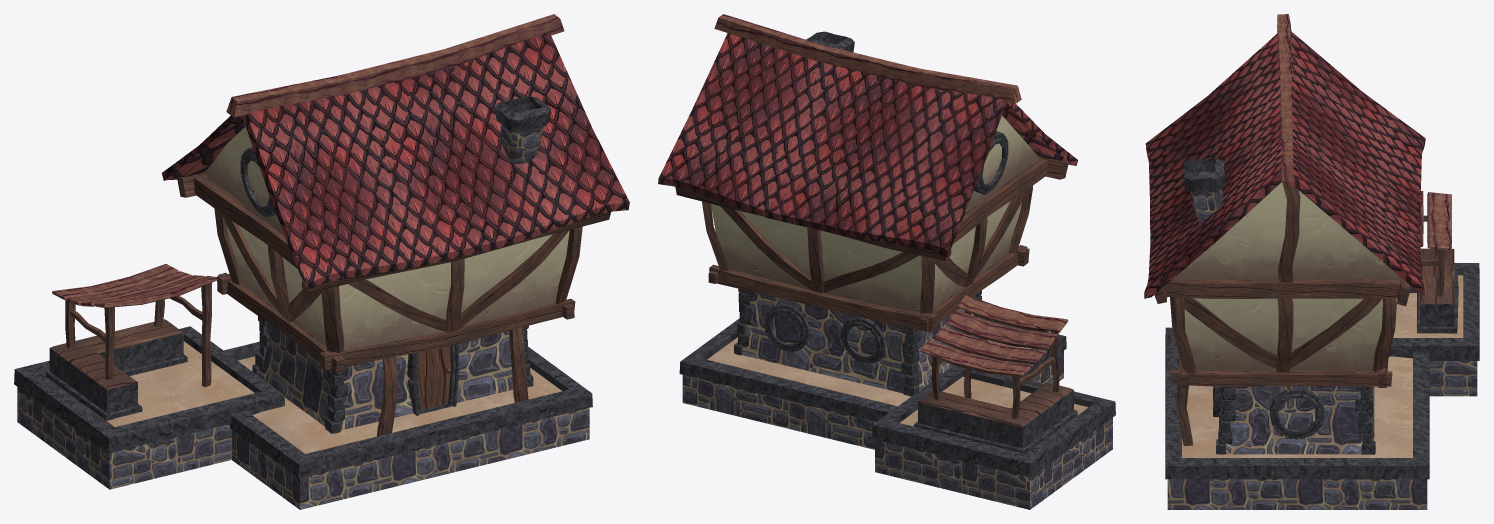
Rendered from house.dae.
The picture shows the model from 3 angles, left to right: view 1: azimuth 30°, elevation 25°; view 2: azimuth 150°, elevation 25°; view 3: azimuth 270°, elevation 25°; orthographic projection. The views are drawn at different scales.
Parts seen in each view (by area): view 1: Box002; view 2: Box002; view 3: Box002.
Part boxes in pixels (<box>): Box002: <box>14,14,629,509</box>; Box002: <box>658,14,1115,509</box>; Box002: <box>1144,14,1479,509</box>.
Size of the model in its own units: 1304 by 1030 by 874.
7 materials, 7 textured.
